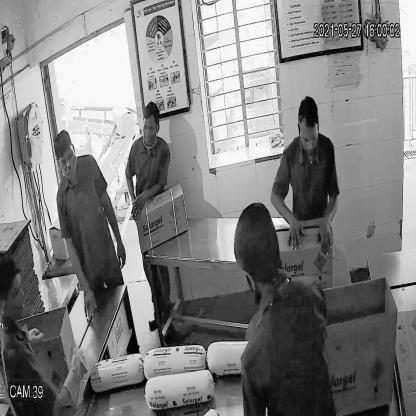no_goggles: (296, 123, 322, 148), (56, 148, 76, 168)
